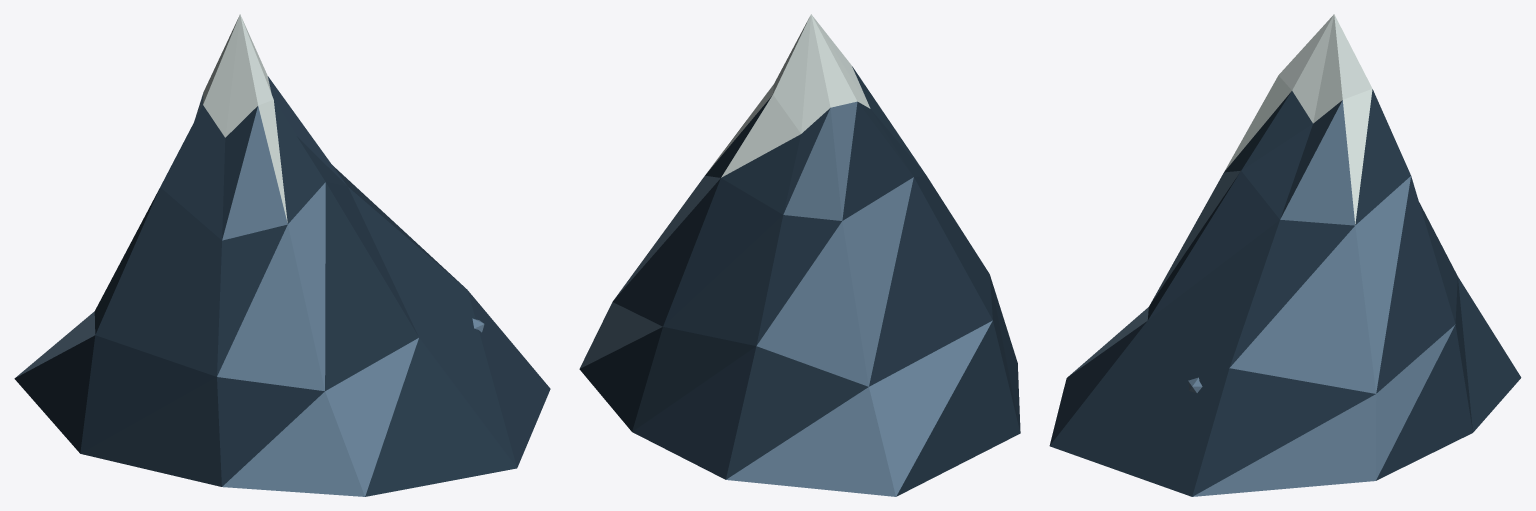
Rendered from Mountain_A.fbx.
3 renders of one model, left to right at view 1: azimuth 30°, elevation 25°; view 2: azimuth 150°, elevation 25°; view 3: azimuth 270°, elevation 25°, orthographic. The views are drawn at different scales.
Visible parts, largest first — view 1: Mountain_A; view 2: Mountain_A; view 3: Mountain_A.
Boxes of the visible parts, bbox=[...] form: Mountain_A: bbox=[14, 14, 550, 496]; Mountain_A: bbox=[579, 14, 1020, 496]; Mountain_A: bbox=[1049, 14, 1521, 496].
Size of the model in its own units: 5 by 4.6 by 5.
